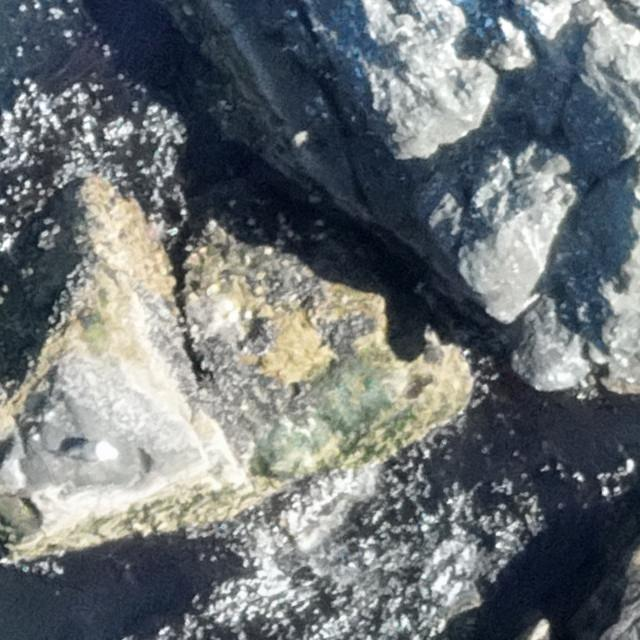umineko: (66, 439, 120, 461)
